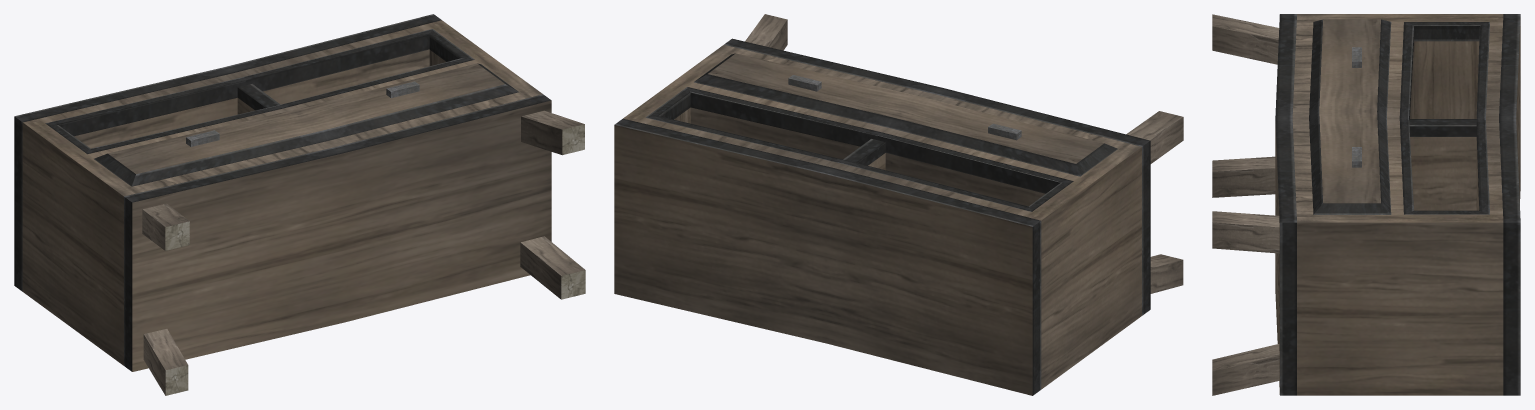
The model's file is Dresser_B.fbx.
The picture shows the model from 3 angles, left to right: view 1: azimuth 30°, elevation 25°; view 2: azimuth 150°, elevation 25°; view 3: azimuth 270°, elevation 25°; orthographic projection. The views are drawn at different scales.
Visible parts, largest first — view 1: Dresser_B; view 2: Dresser_B; view 3: Dresser_B.
Boxes of the visible parts, x1,y1,x2,y2 form: Dresser_B: (14,14,585,395); Dresser_B: (614,14,1183,395); Dresser_B: (1212,14,1520,395).
Bounding box in the file's own units: 3.01 × 1.25 × 1.87.
